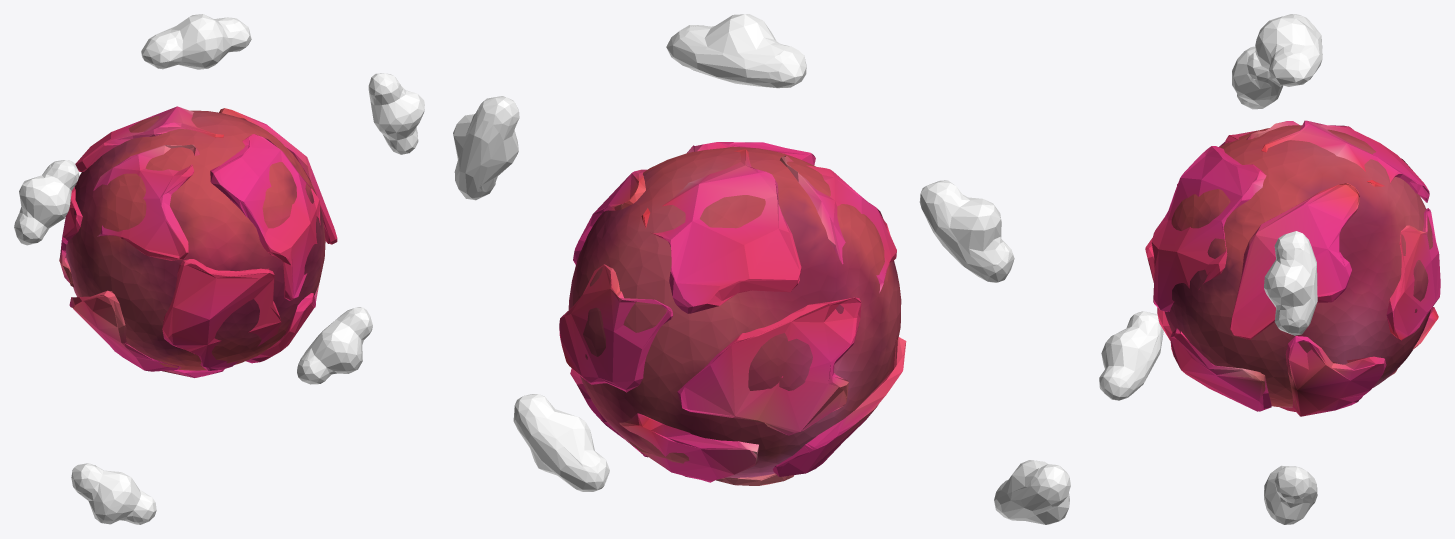
The model's file is Anfora.glb.
3 views of the same model, side by side, from view 1: azimuth 30°, elevation 25°; view 2: azimuth 150°, elevation 25°; view 3: azimuth 270°, elevation 25° (orthographic). The views are drawn at different scales.
Visible parts, largest first — view 1: Sphere (×2), Mesh 7, Sphere 4, Sphere 1, Sphere 3, Sphere 2; view 2: Sphere (×2), Mesh 7, Sphere 1, Sphere 4, Sphere 2, Sphere 3; view 3: Sphere (×2), Mesh 7, Sphere 2, Sphere 3, Sphere 4, Sphere 1.
Boxes of the visible parts, bbox=[...] form: Sphere (×2): bbox=[66, 14, 325, 370]; Mesh 7: bbox=[59, 106, 337, 377]; Sphere 4: bbox=[297, 307, 372, 384]; Sphere 1: bbox=[14, 160, 79, 245]; Sphere 3: bbox=[71, 463, 156, 524]; Sphere 2: bbox=[368, 73, 424, 154]; Sphere (×2): bbox=[568, 14, 901, 477]; Mesh 7: bbox=[559, 142, 906, 485]; Sphere 1: bbox=[919, 180, 1014, 282]; Sphere 4: bbox=[513, 394, 609, 491]; Sphere 2: bbox=[453, 96, 519, 200]; Sphere 3: bbox=[994, 460, 1070, 524]; Sphere (×2): bbox=[1164, 14, 1432, 407]; Mesh 7: bbox=[1145, 120, 1440, 416]; Sphere 2: bbox=[1264, 231, 1317, 335]; Sphere 3: bbox=[1099, 311, 1163, 400]; Sphere 4: bbox=[1264, 465, 1317, 524]; Sphere 1: bbox=[1232, 46, 1282, 109].
Size of the model in its own units: 1.59 by 1.51 by 1.03.
